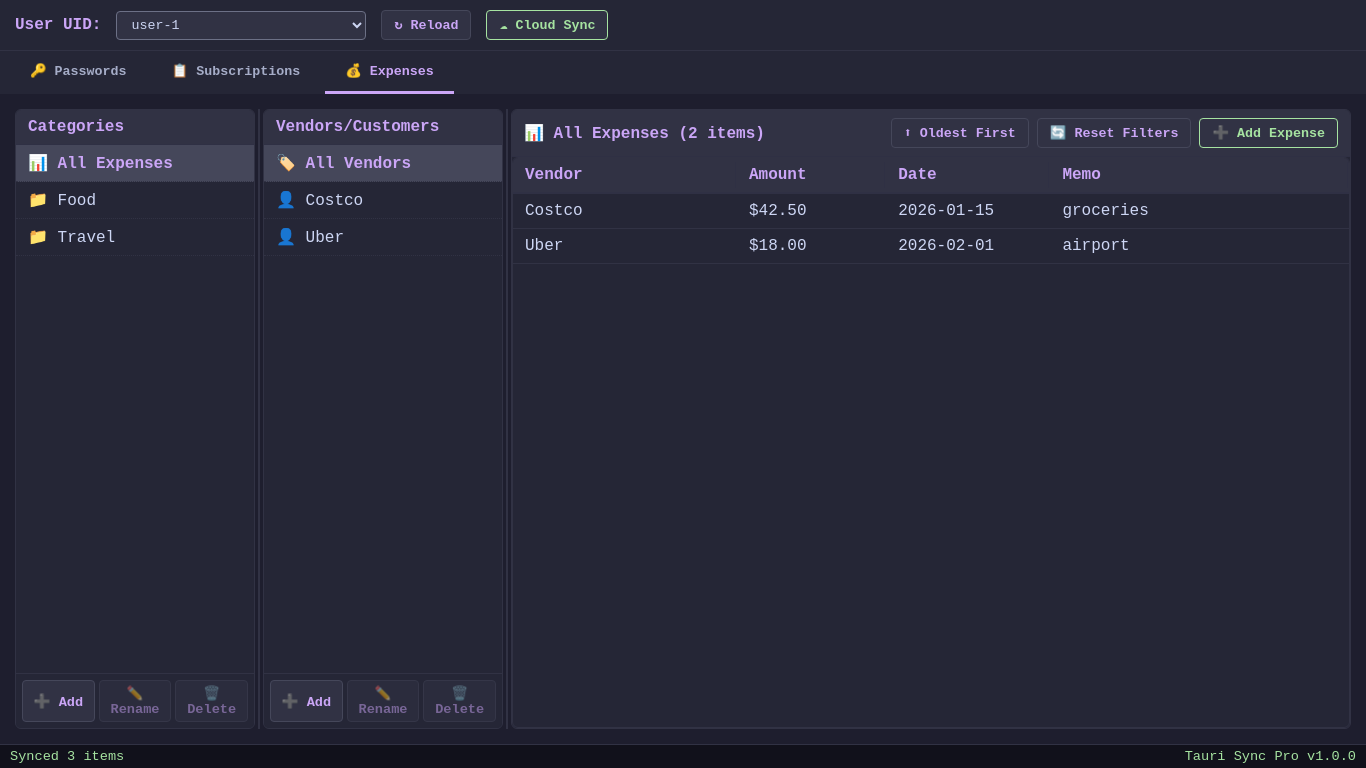
Expenses tab › pre-fills the add-expense modal from the current filters
Step 1. Click the text "📁 Food" → point(135, 200), box [16,182,254,219]
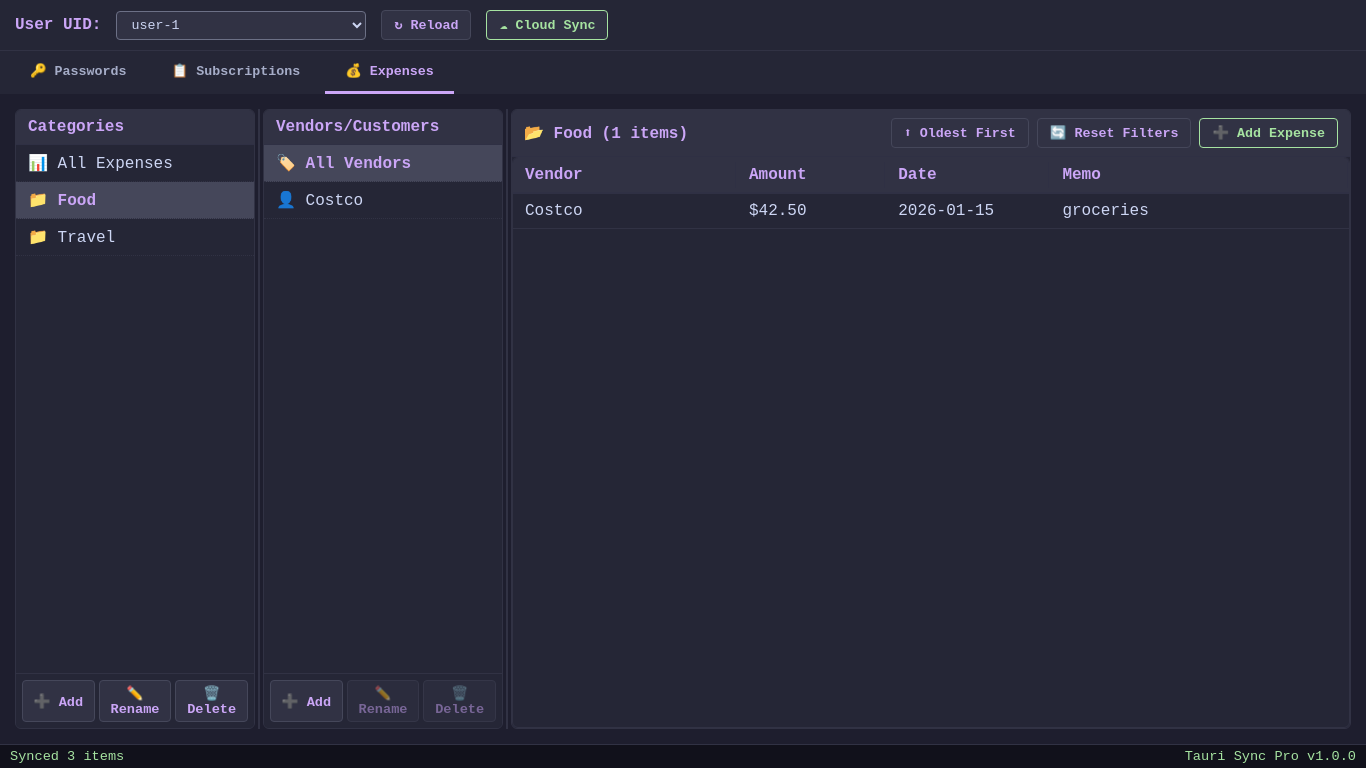
Step 2. Click the text "👤 Costco" → point(383, 200), box [264,182,502,219]
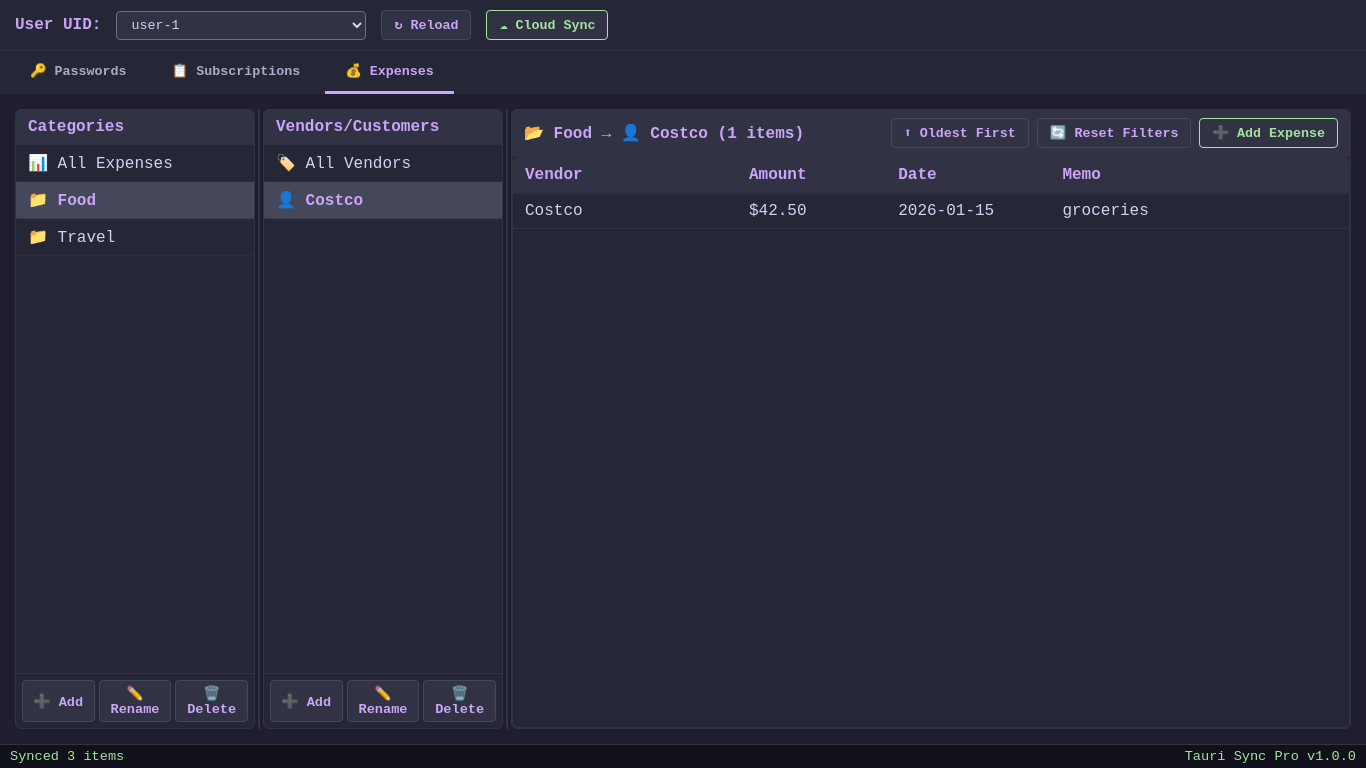
Step 3. Click the button "➕ Add Expense" → point(1269, 133), box [1199,118,1338,148]
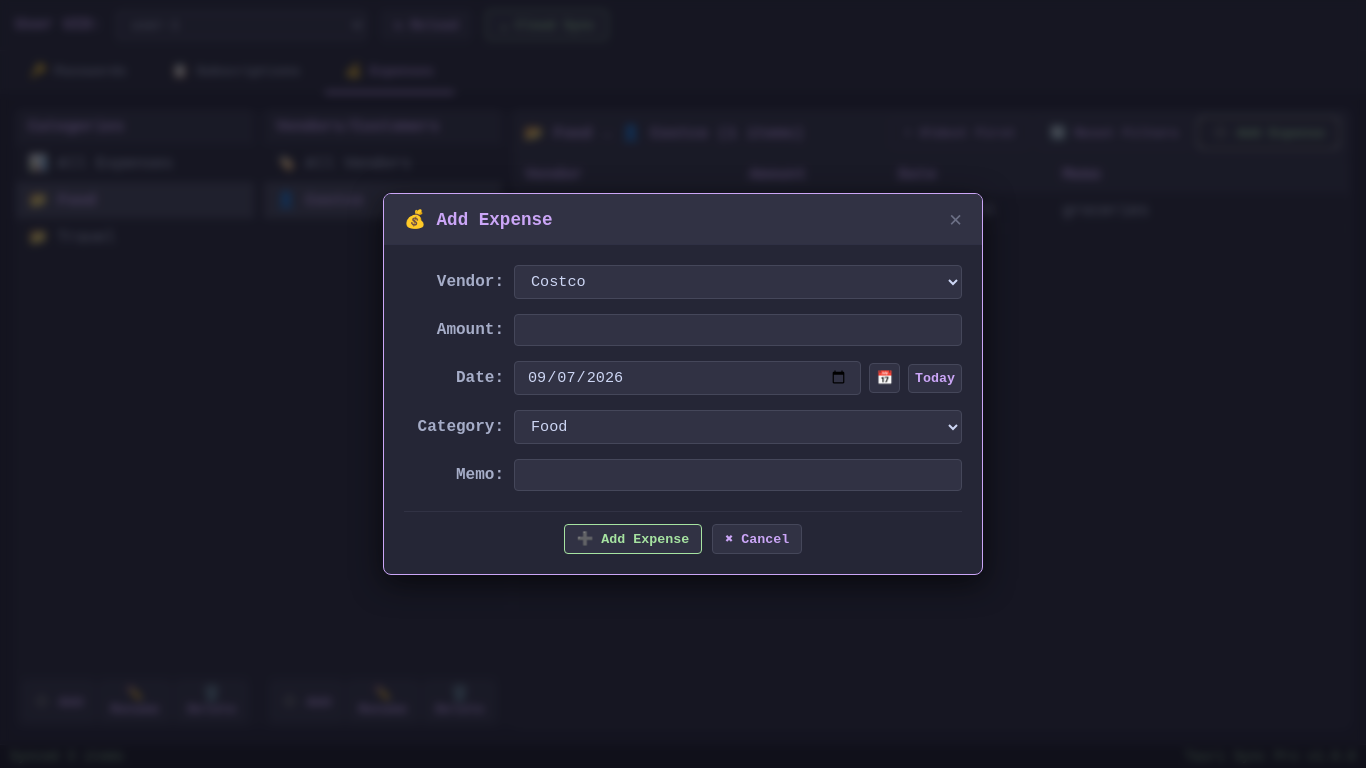
Expected: the dropdown showing "Costco" next to "Vendor:" is shown, [514,265,962,299]
Expected: the dropdown showing "Food" next to "Category:" is shown, [514,410,962,444]
Step 4. Click the text "💰 Add Expense" → point(82, 384), box [0,0,1365,767]
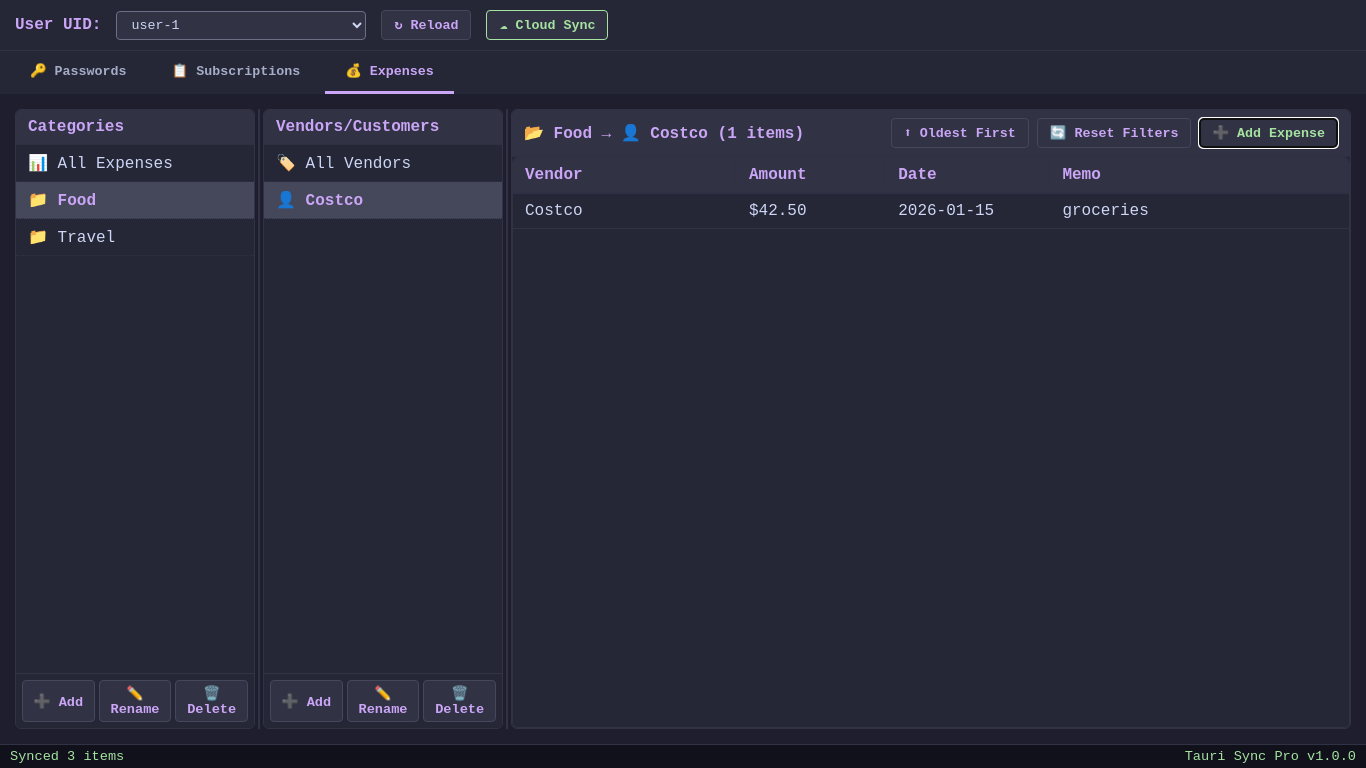
Expected: the text "💰 Add Expense" is gone
